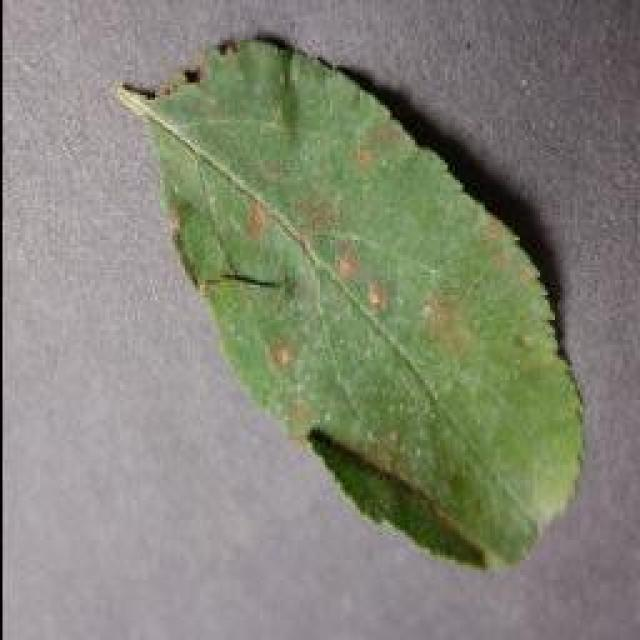apple cedar apple rust: (112, 30, 588, 572)
